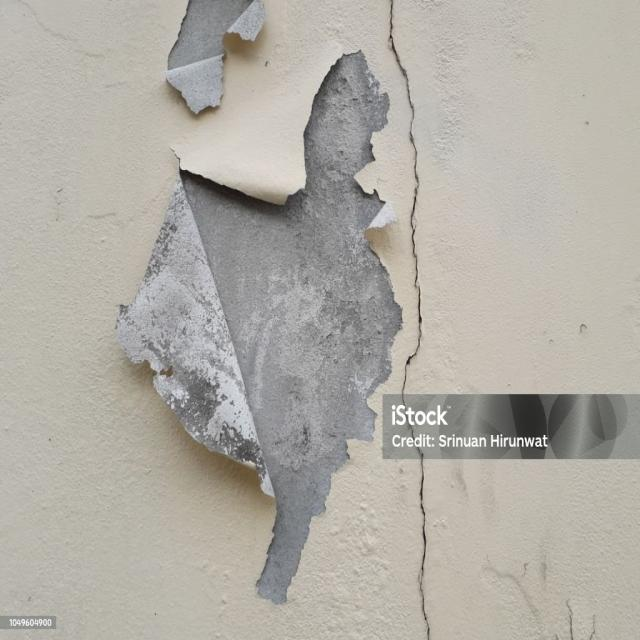paint-peeling: (113, 10, 413, 621), (156, 0, 298, 145)
